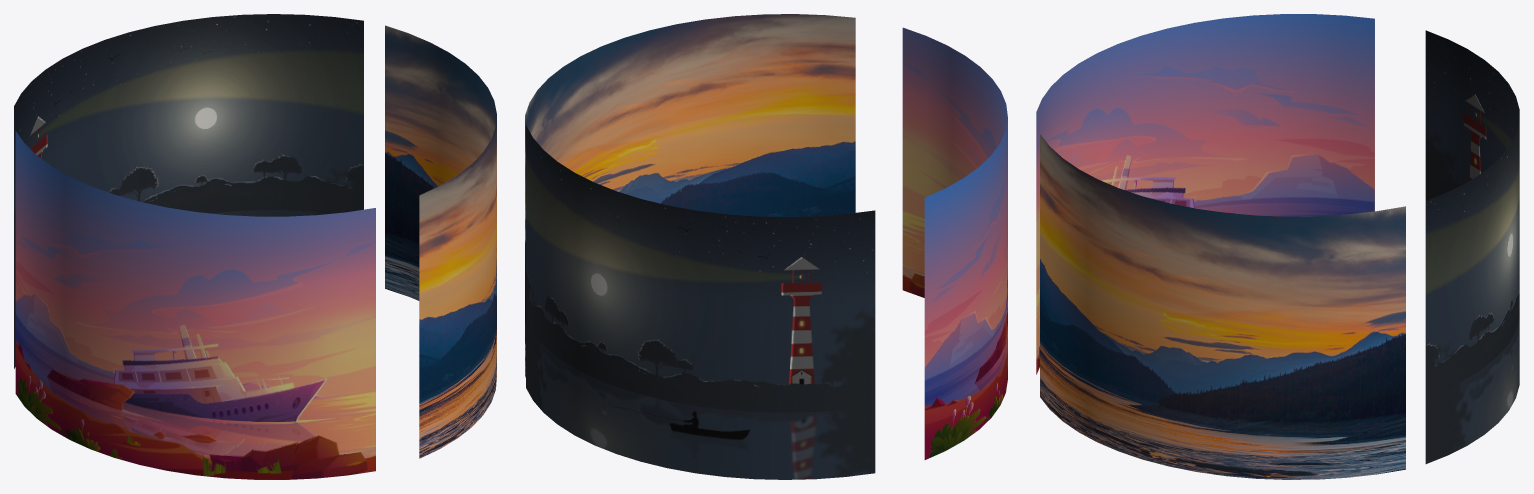
The model's file is carrusel.fbx.
3 renders of one model, left to right at view 1: azimuth 30°, elevation 25°; view 2: azimuth 150°, elevation 25°; view 3: azimuth 270°, elevation 25°, orthographic.
Parts seen in each view (by area): view 1: Plane003, Plane001, Plane002; view 2: Plane001, Plane002, Plane003; view 3: Plane002, Plane003, Plane001.
Part boxes in pixels (left/top/right/bottom): Plane003: left=15, top=131, right=375, bottom=479; Plane001: left=14, top=14, right=363, bottom=368; Plane002: left=385, top=25, right=496, bottom=458; Plane001: left=526, top=125, right=875, bottom=479; Plane002: left=525, top=14, right=855, bottom=377; Plane003: left=902, top=27, right=1007, bottom=459; Plane002: left=1040, top=134, right=1405, bottom=479; Plane003: left=1036, top=14, right=1374, bottom=374; Plane001: left=1425, top=30, right=1519, bottom=463.
Size of the model in its own units: 1981 by 1200 by 1995.
Materials: 3 (3 with a texture image).
